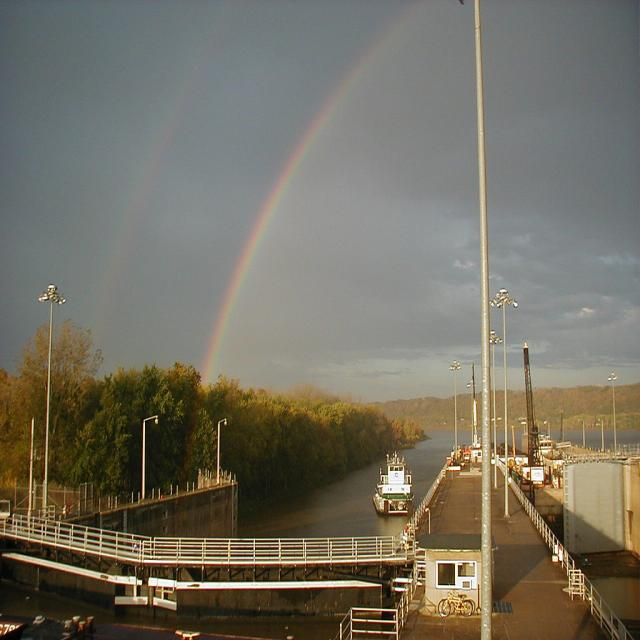Boat: (371, 451, 422, 529)
